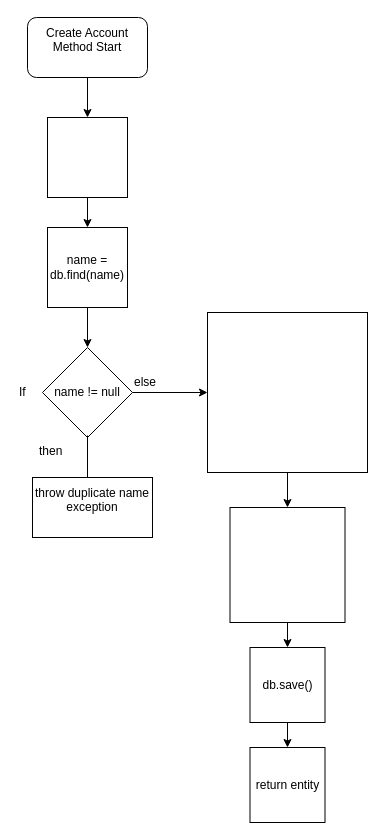
Some shapes in this 385 by 840 pixel diagram are drawn without their labels. The shapes that lost their labels are listed below. From the top down, each one's centre as x and y in pixels, then its label:
the point at 87,157: read var request
the point at 287,392: entity = db.accounts.add(new account(request.account))
the point at 287,564: entity.address = new address() entity.cart = new cart()
